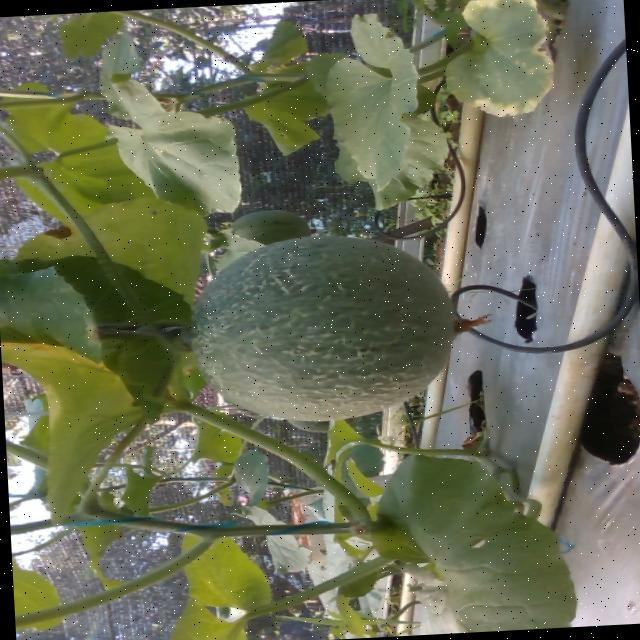melon: (192, 234, 468, 420)
